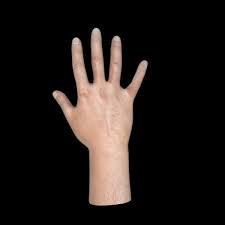hand: (46, 14, 153, 161)
